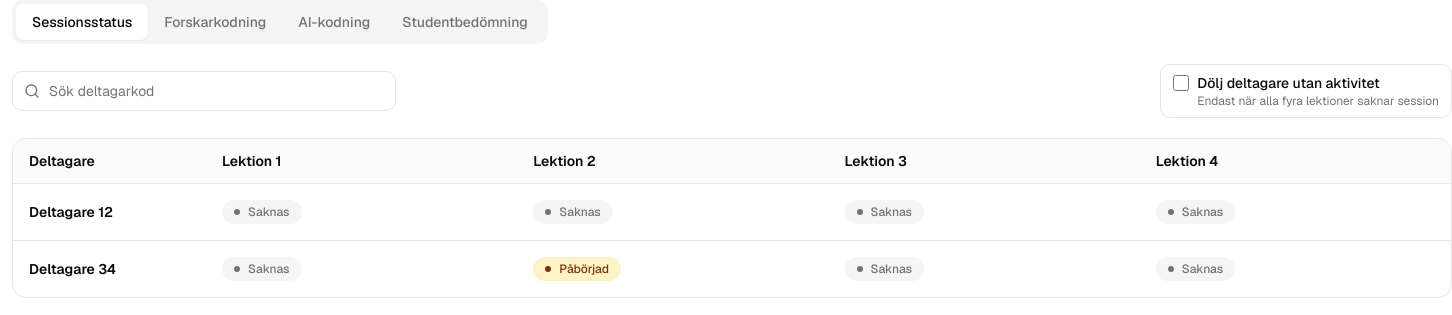
OverviewTable › optionally hides only participants without any session
Expected: the column heading "Deltagare 12" is shown, [13, 184, 206, 240]
Expected: the column heading "Deltagare 34" is shown, [13, 240, 206, 297]
Click the checkbox labelled "Dölj deltagare utan aktivitet" at (1181, 83), box [1173, 75, 1189, 91]
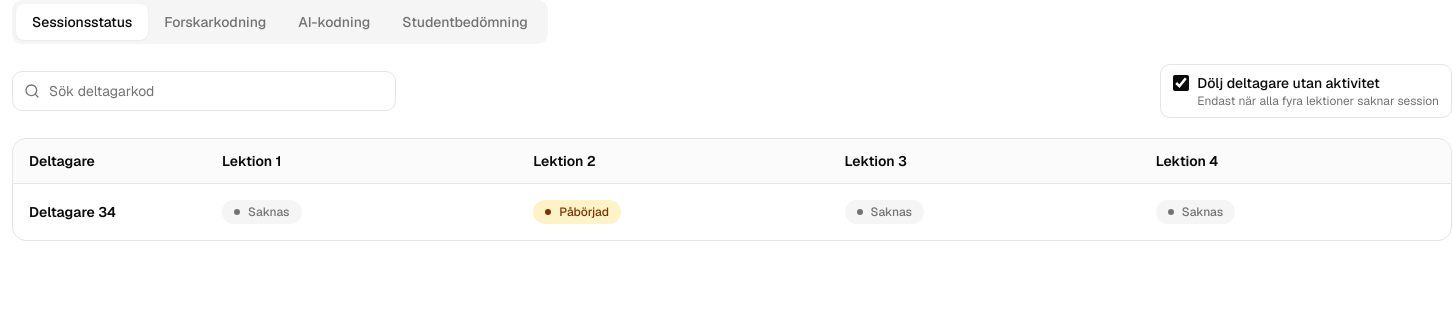
Expected: the column heading "Deltagare 34" is shown, [13, 184, 206, 240]
Expected: the column heading "Deltagare 12" is gone
